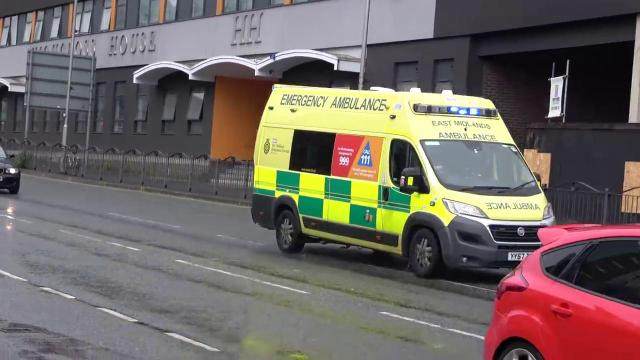police_car: (254, 82, 549, 271)
